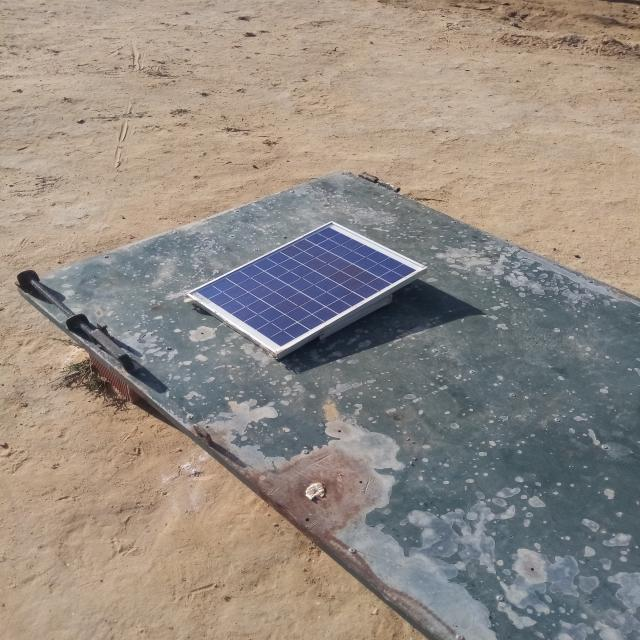Normal Solar Panel: (187, 221, 427, 354)
